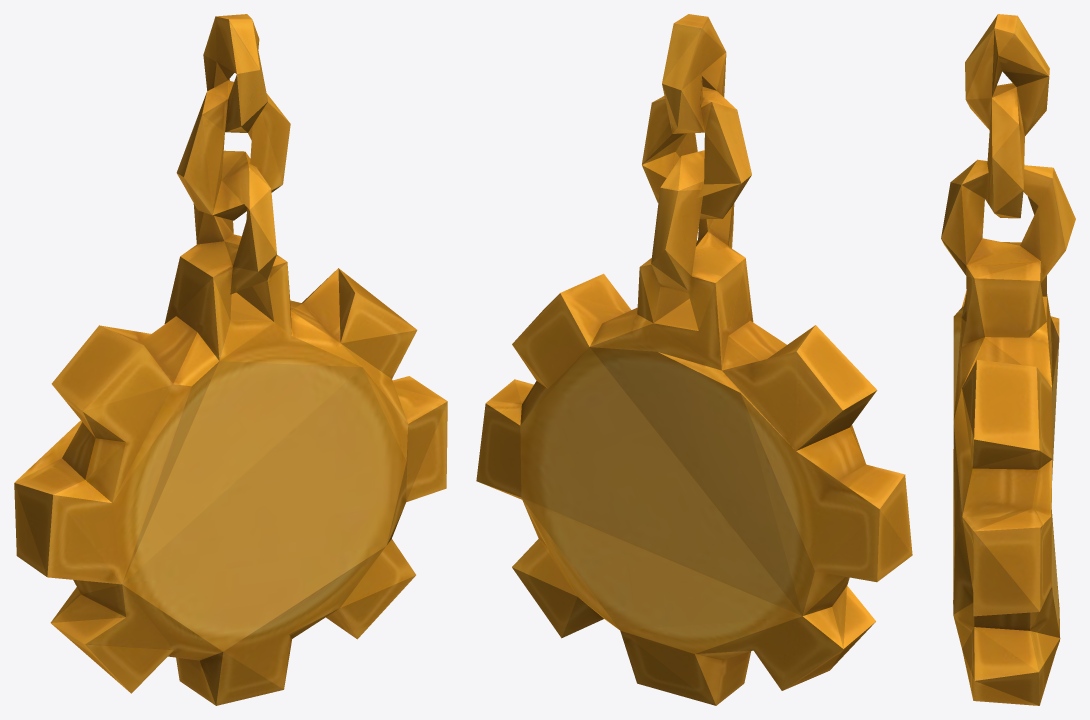
The model's file is medalhao-engrenagem.glb.
The picture shows the model from 3 angles, left to right: view 1: azimuth 30°, elevation 25°; view 2: azimuth 150°, elevation 25°; view 3: azimuth 270°, elevation 25°; orthographic projection.
Parts seen in each view (by area): view 1: Mesh_0; view 2: Mesh_0; view 3: Mesh_0.
Part boxes in pixels (left/top/right/bottom): Mesh_0: left=14, top=14, right=447, bottom=705; Mesh_0: left=476, top=14, right=912, bottom=705; Mesh_0: left=941, top=14, right=1075, bottom=705.
Bounding box in the file's own units: 1.19 × 1.89 × 0.3488.
1 material, 1 textured.
